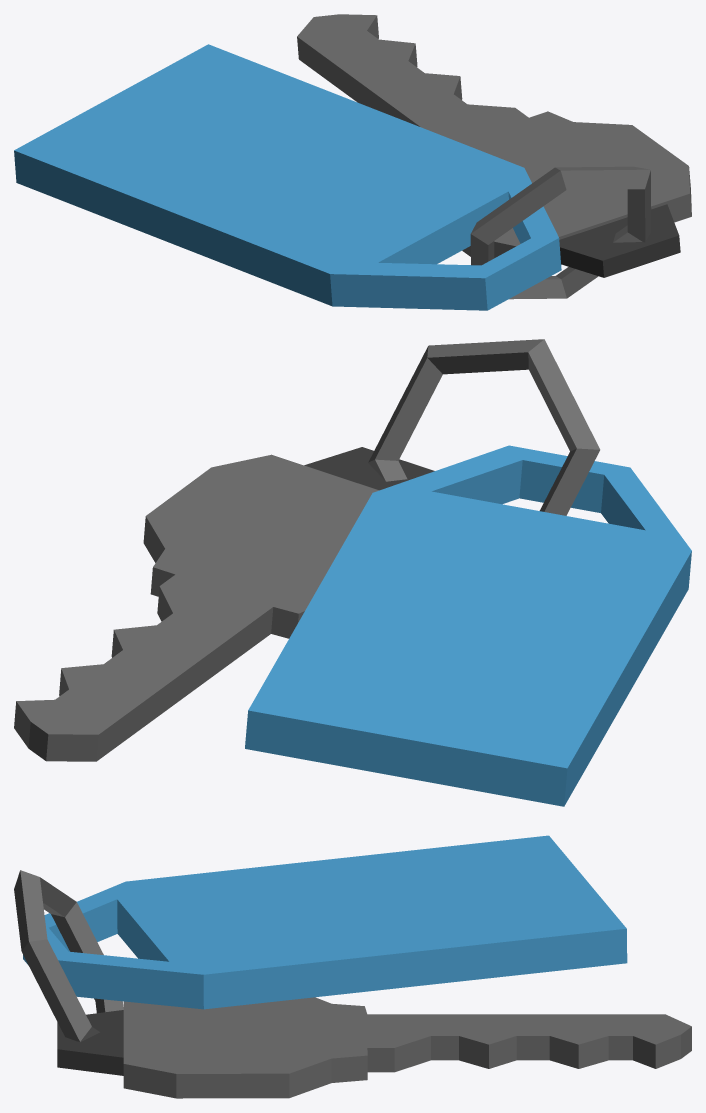
The model's file is ArmoryKey_3D.glb.
3 views of the same model, one above another, from view 1: azimuth 30°, elevation 25°; view 2: azimuth 150°, elevation 25°; view 3: azimuth 270°, elevation 25° (orthographic). The views are drawn at different scales.
Parts seen in each view (by area): view 1: ArmoryKeyLowPoly; view 2: ArmoryKeyLowPoly; view 3: ArmoryKeyLowPoly.
Boxes of the visible parts, x1,y1,x2,y2 form: ArmoryKeyLowPoly: [14, 14, 691, 310]; ArmoryKeyLowPoly: [14, 339, 691, 806]; ArmoryKeyLowPoly: [14, 835, 691, 1098].
Size of the model in its own units: 0.0844 by 0.0287 by 0.1006.
1 material, 1 textured.
